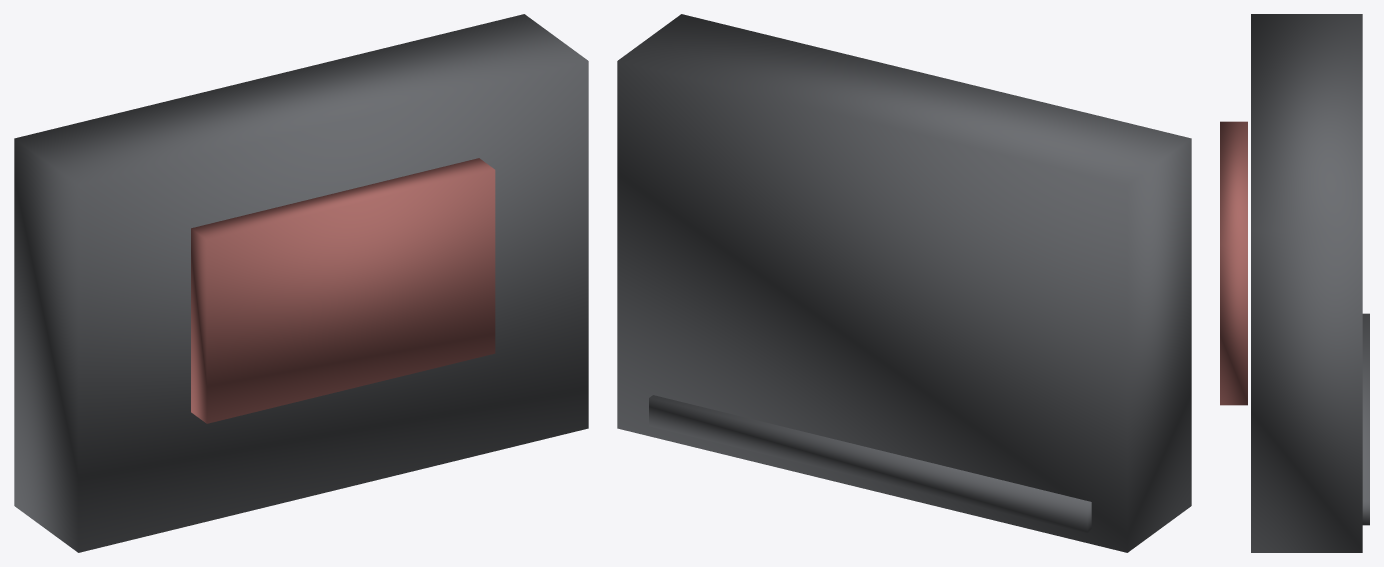
The model's file is take_a_number_display__reinforced.glb.
3 views of the same model, side by side, from view 1: azimuth 30°, elevation 25°; view 2: azimuth 150°, elevation 25°; view 3: azimuth 270°, elevation 25° (orthographic). The views are drawn at different scales.
Parts seen in each view (by area): view 1: world; view 2: world; view 3: world.
Boxes of the visible parts, bbox=[...] form: world: bbox=[14, 14, 588, 552]; world: bbox=[617, 14, 1191, 552]; world: bbox=[1220, 14, 1369, 552].
Bounding box in the file's own units: 0.4738 × 0.3264 × 0.1379.
